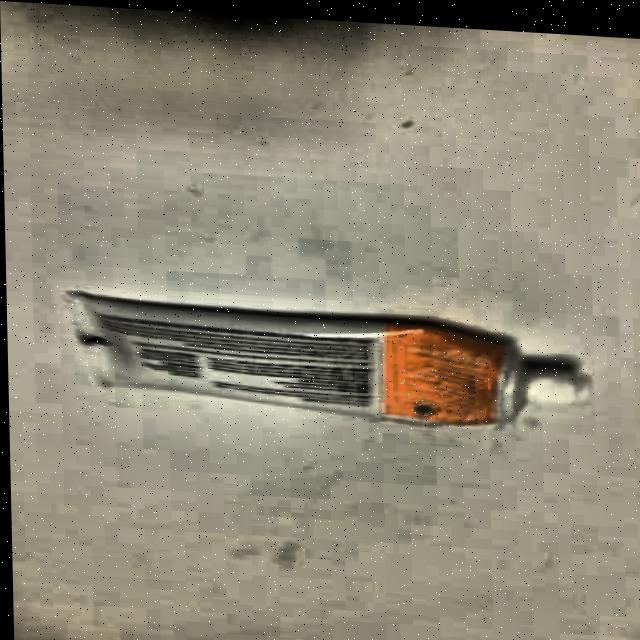plastic: (63, 287, 596, 436)
